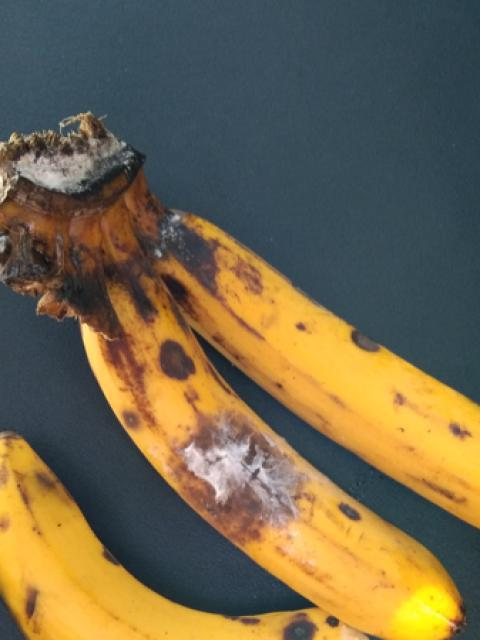ripe: (160, 186, 479, 515), (4, 426, 306, 639)
rotten: (72, 271, 468, 639)
